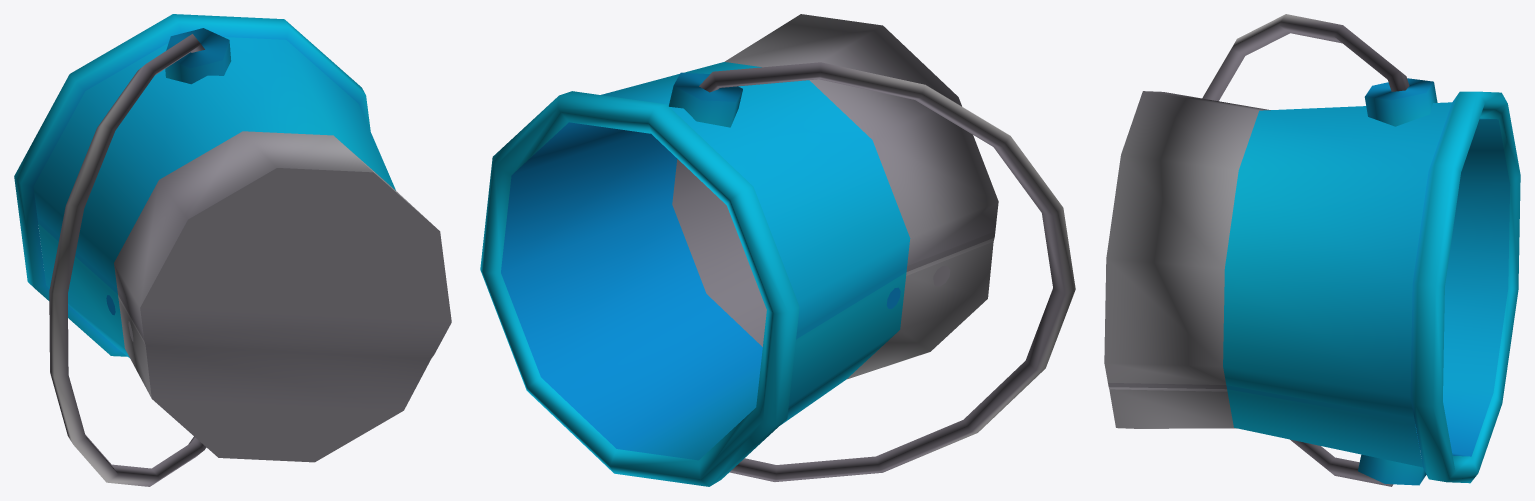
Rendered from fishBucket_bucketBlue.glb.
The picture shows the model from 3 angles, left to right: view 1: azimuth 30°, elevation 25°; view 2: azimuth 150°, elevation 25°; view 3: azimuth 270°, elevation 25°; orthographic projection. The views are drawn at different scales.
Parts seen in each view (by area): view 1: fishBucket_bucketBlue; view 2: fishBucket_bucketBlue; view 3: fishBucket_bucketBlue.
Part boxes in pixels (x1=…): fishBucket_bucketBlue: x1=14, y1=14, x2=451, y2=486; fishBucket_bucketBlue: x1=480, y1=14, x2=1075, y2=486; fishBucket_bucketBlue: x1=1104, y1=14, x2=1520, y2=486.
Bounding box in the file's own units: 0.4719 × 0.4161 × 0.368.
